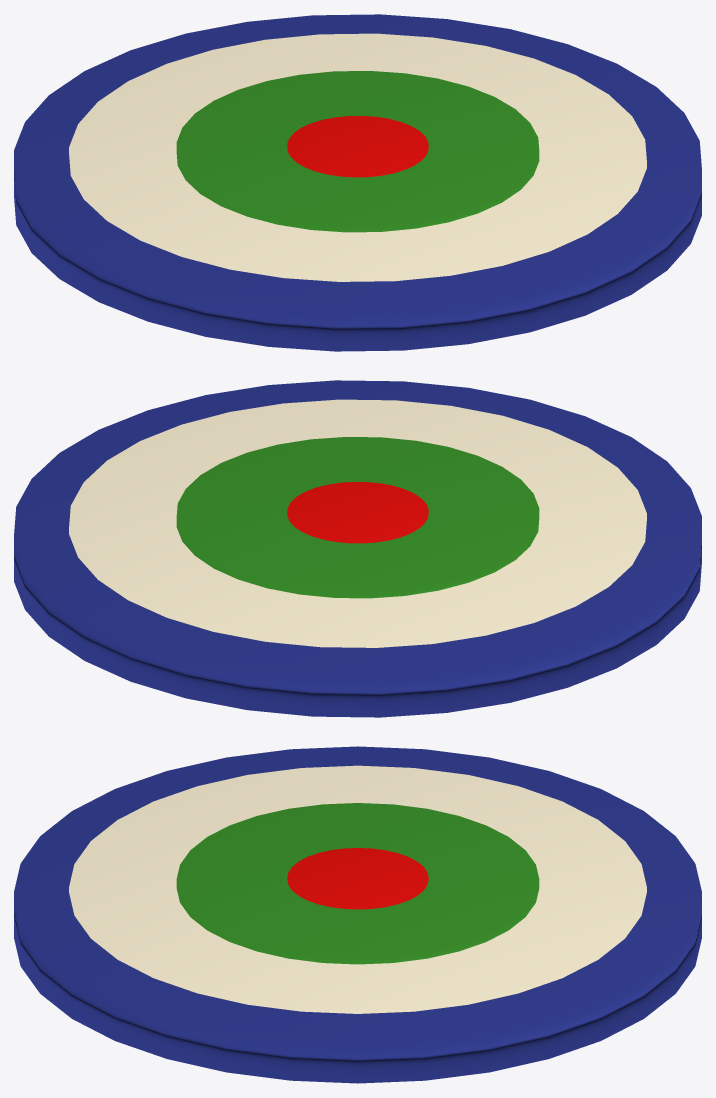
The model's file is TargetModel.fbx.
The picture shows the model from 3 angles, top to bottom: view 1: azimuth 30°, elevation 25°; view 2: azimuth 150°, elevation 25°; view 3: azimuth 270°, elevation 25°; orthographic projection.
Parts seen in each view (by area): view 1: Cylinder.003; view 2: Cylinder.003; view 3: Cylinder.003.
Boxes of the visible parts, <box> form: Cylinder.003: <box>14,14,701,351</box>; Cylinder.003: <box>14,380,701,717</box>; Cylinder.003: <box>14,746,701,1083</box>.
Size of the model in its own units: 404 by 39.09 by 404.
